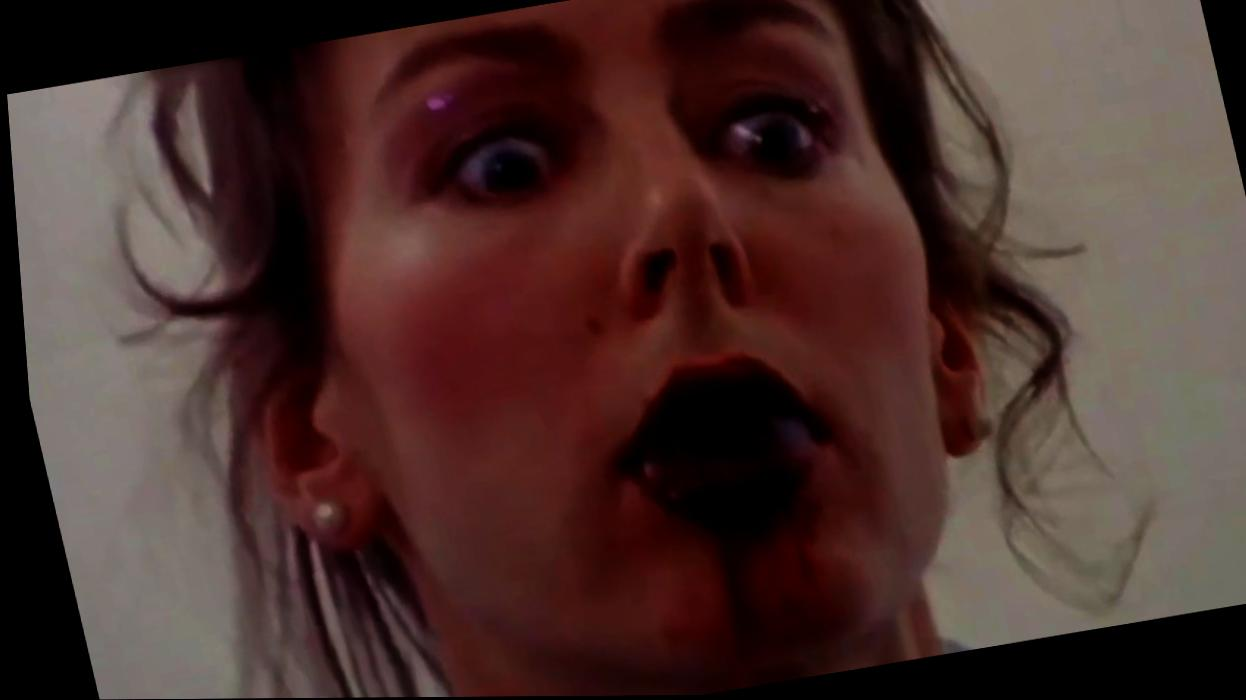Fire: (632, 411, 812, 661)
